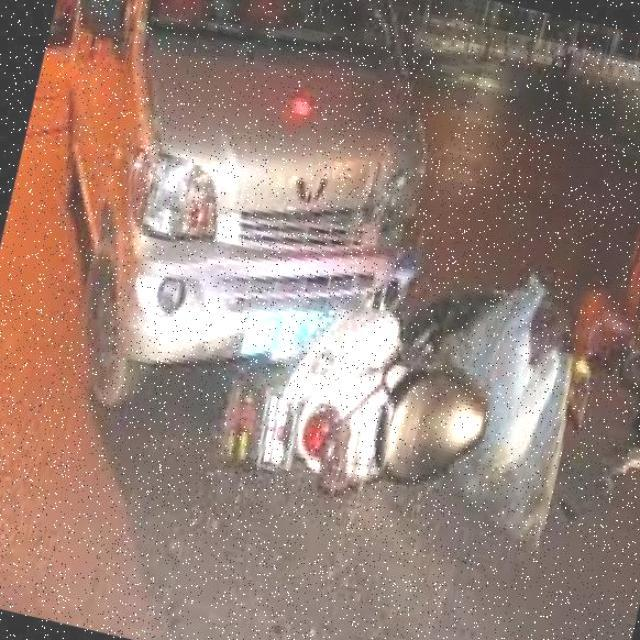accident: (48, 95, 640, 581)
